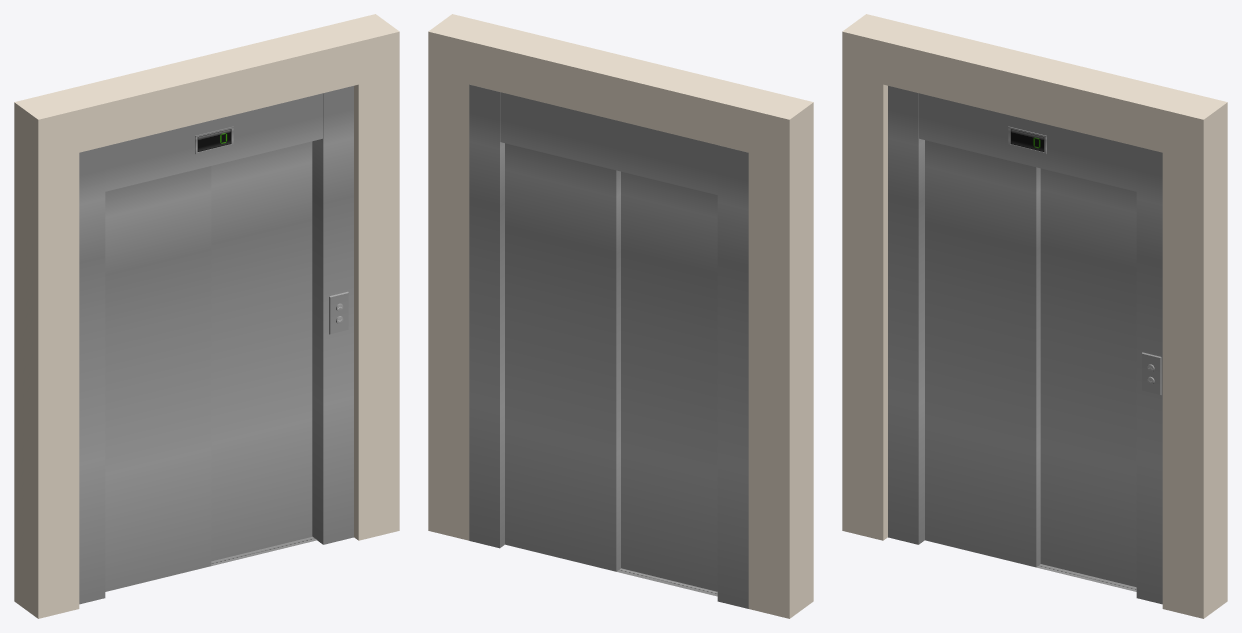
File: sweethome3d-scopia-elevator-door-162.glb
3 renders of one model, left to right at view 1: azimuth 30°, elevation 25°; view 2: azimuth 150°, elevation 25°; view 3: azimuth 330°, elevation 25°, orthographic.
Visible parts, largest first — view 1: right-door_Cube.001, wooden-frame_Cube.003, metallic-frame_Cube.002, Cube_Cube.004, Cube.001_Cube.005, Plane; view 2: right-door_Cube.001, wooden-frame_Cube.003, metallic-frame_Cube.002, Plane; view 3: right-door_Cube.001, wooden-frame_Cube.003, metallic-frame_Cube.002, Cube_Cube.004, Cube.001_Cube.005, Plane.
Boxes of the visible parts, left/top/right/bottom form: right-door_Cube.001: left=105, top=141, right=312, bottom=591; wooden-frame_Cube.003: left=14, top=14, right=399, bottom=618; metallic-frame_Cube.002: left=79, top=86, right=353, bottom=604; Cube_Cube.004: left=329, top=291, right=348, bottom=334; Cube.001_Cube.005: left=195, top=126, right=233, bottom=154; Plane: left=107, top=536, right=316, bottom=591; right-door_Cube.001: left=505, top=143, right=717, bottom=591; wooden-frame_Cube.003: left=428, top=14, right=813, bottom=618; metallic-frame_Cube.002: left=469, top=84, right=748, bottom=608; Plane: left=511, top=546, right=717, bottom=596; right-door_Cube.001: left=925, top=140, right=1136, bottom=587; wooden-frame_Cube.003: left=842, top=14, right=1227, bottom=618; metallic-frame_Cube.002: left=888, top=86, right=1162, bottom=604; Cube_Cube.004: left=1142, top=352, right=1161, bottom=394; Cube.001_Cube.005: left=1008, top=126, right=1046, bottom=154; Plane: left=925, top=540, right=1136, bottom=591.
Size of the model in its own units: 186 by 245 by 21.49.
Materials: 6 (5 with a texture image).
